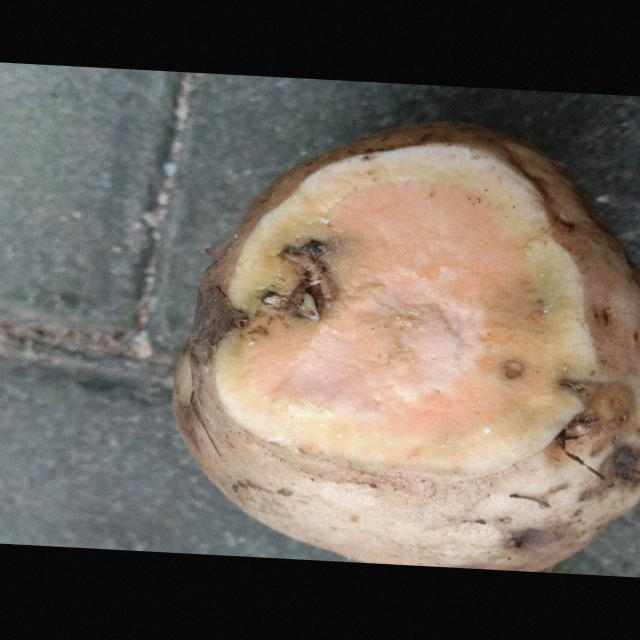Sick Sweet Potato_Tuber Rot: (212, 144, 595, 475)
